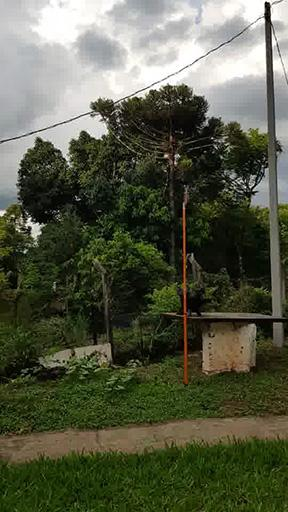Vara_Manobra: (181, 203, 189, 386)
